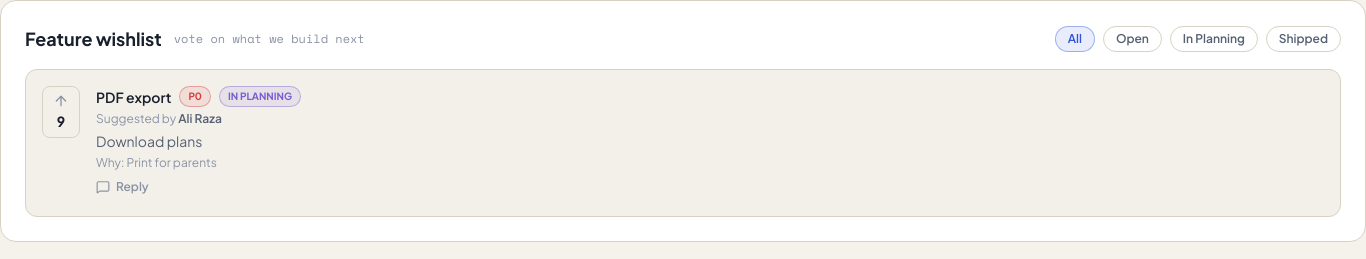
Test: WishlistWall › upvotes optimistically and keeps the new count
Click the button "9".
click(61, 112)  # box [42,86,80,138]
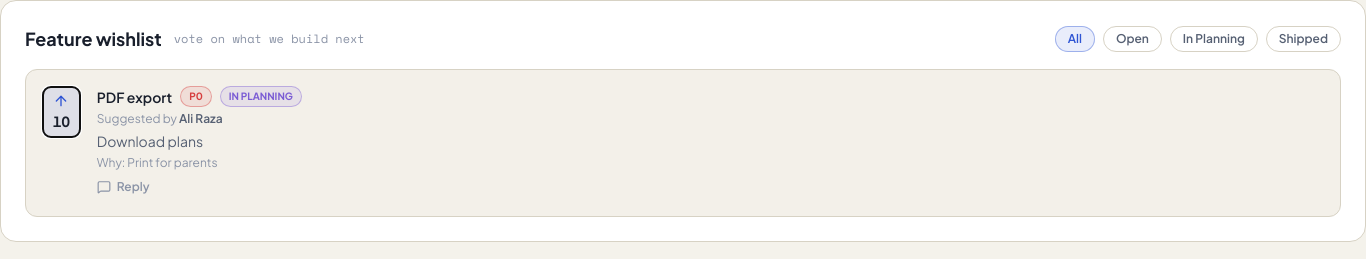
Result: the text "10" is shown at [53,111,70,131]
